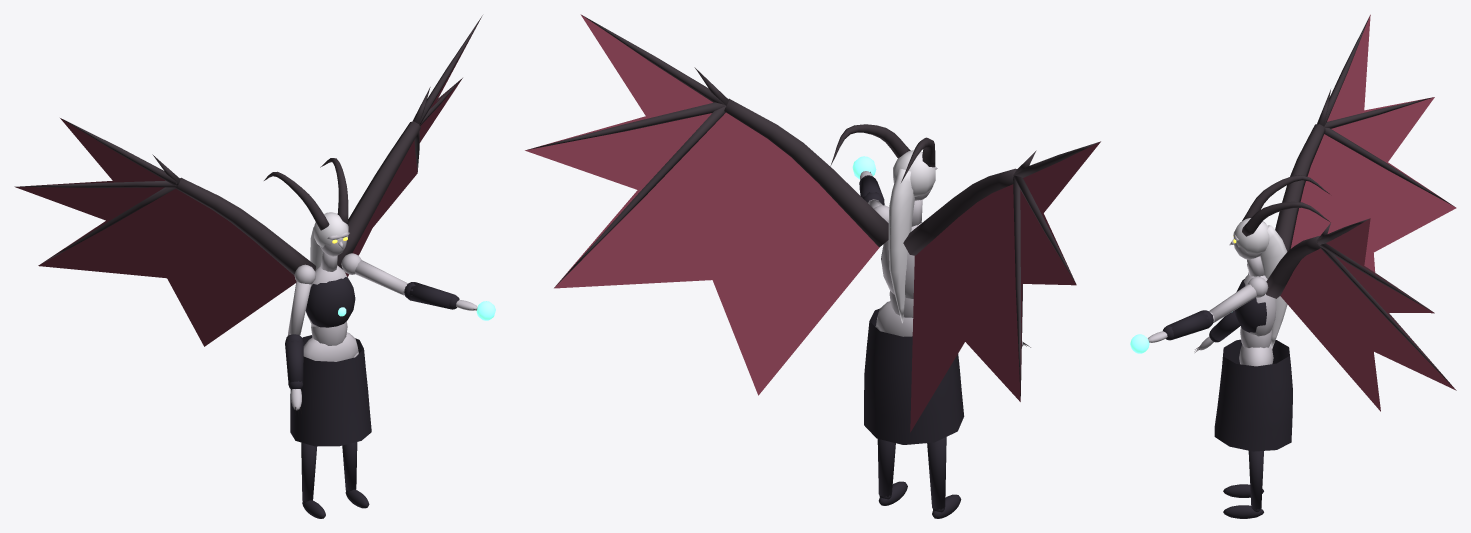
File: succubus.glb
The picture shows the model from 3 angles, left to right: view 1: azimuth 30°, elevation 25°; view 2: azimuth 150°, elevation 25°; view 3: azimuth 270°, elevation 25°; orthographic projection. The views are drawn at different scales.
Parts seen in each view (by area): view 1: torso, pelvis, head, upperarm_R, upperarm_L, forearm_L, forearm_R, shin_R, shin_L; view 2: torso, pelvis, head, shin_R, shin_L; view 3: torso, pelvis, head, upperarm_L, forearm_L, shin_L, forearm_R, hand_L, foot_L.
Boxes of the visible parts, x1,y1,x2,y2 form: torso: (14, 15, 482, 346); pelvis: (290, 332, 371, 446); head: (264, 158, 349, 270); upperarm_R: (288, 264, 315, 335); upperarm_L: (341, 253, 407, 294); forearm_L: (402, 282, 459, 309); forearm_R: (285, 334, 303, 389); shin_R: (301, 442, 317, 503); shin_L: (342, 442, 357, 492); torso: (525, 14, 1100, 432); pelvis: (864, 301, 964, 444); head: (830, 124, 937, 323); shin_R: (927, 437, 946, 512); shin_L: (877, 439, 895, 499); torso: (1235, 14, 1456, 411); pelvis: (1214, 339, 1292, 451); head: (1229, 175, 1330, 348); upperarm_L: (1209, 276, 1268, 322); forearm_L: (1163, 310, 1215, 340); shin_L: (1248, 451, 1263, 511); forearm_R: (1209, 310, 1240, 342); hand_L: (1130, 331, 1167, 353); foot_L: (1223, 505, 1263, 518).
Size of the model in its own units: 3.15 by 2.66 by 2.01.
